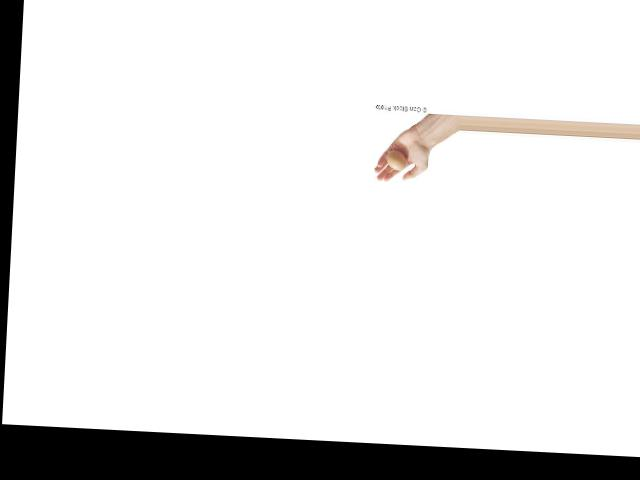egg: (385, 149, 405, 169)
